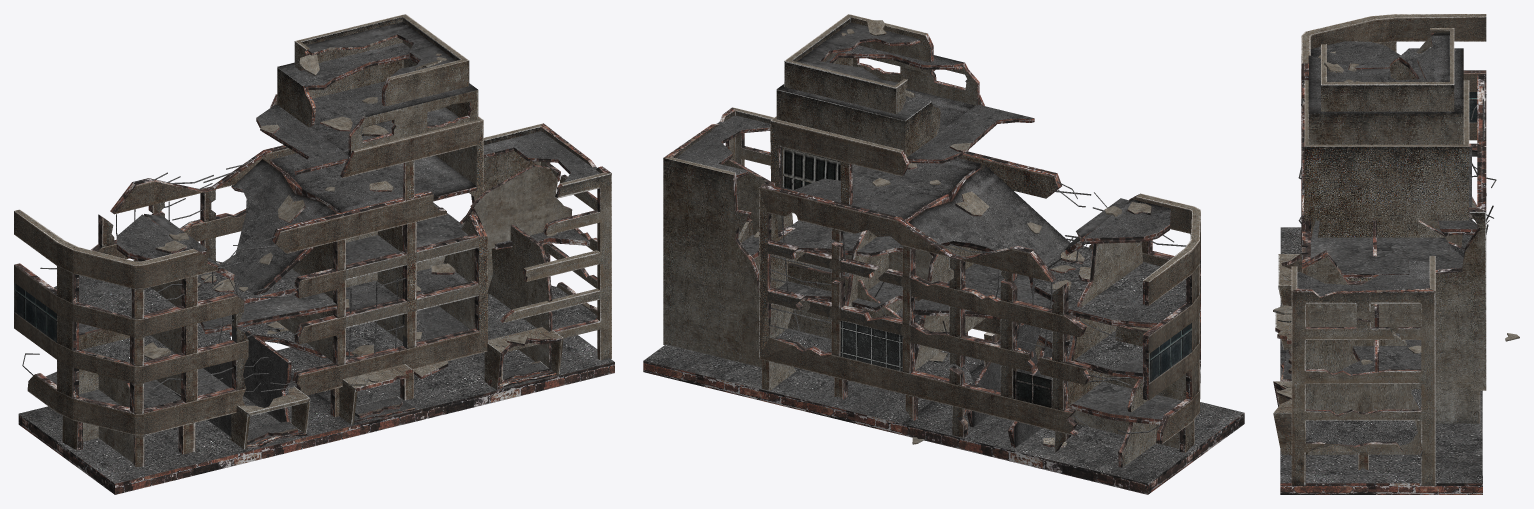
The model's file is buildings_04_ruin.FBX.
The picture shows the model from 3 angles, left to right: view 1: azimuth 30°, elevation 25°; view 2: azimuth 150°, elevation 25°; view 3: azimuth 270°, elevation 25°; orthographic projection. The views are drawn at different scales.
Visible parts, largest first — view 1: Object102; view 2: Object102; view 3: Object102.
Part boxes in pixels (x1=…): Object102: x1=14, y1=14, x2=614, y2=494; Object102: x1=643, y1=14, x2=1244, y2=494; Object102: x1=1273, y1=14, x2=1519, y2=494.
Size of the model in its own units: 3352 by 1352 by 2110.
1 material, 1 textured.
